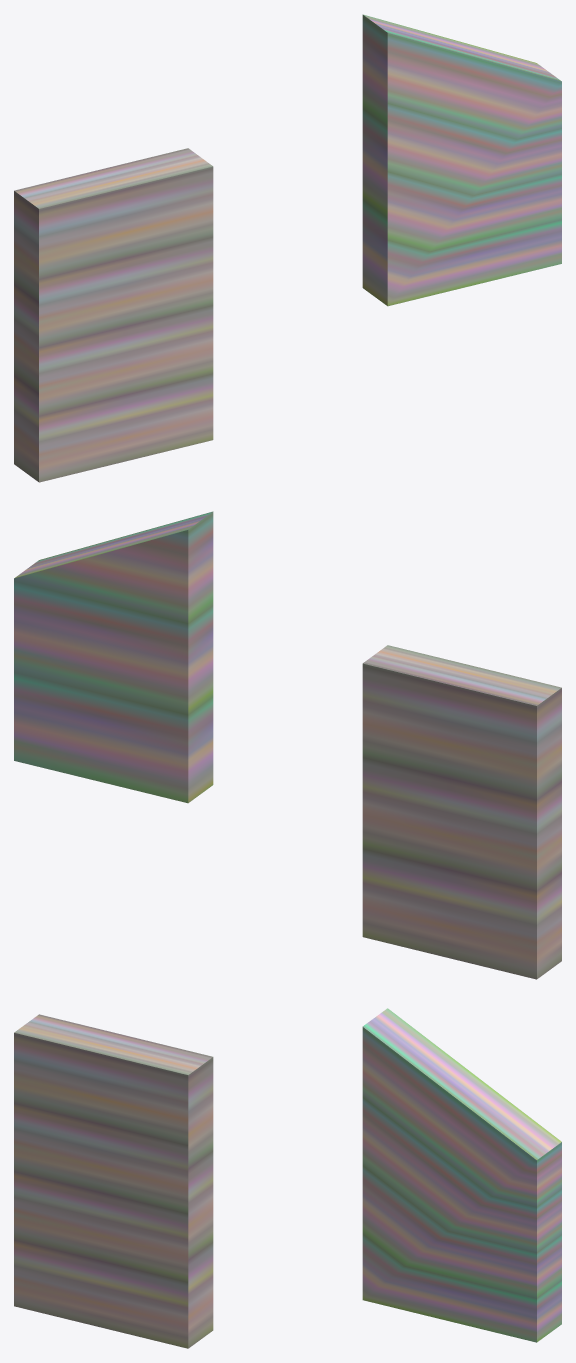
The model's file is construct_eyes_confused.obj.
3 views of the same model, one above another, from view 1: azimuth 30°, elevation 25°; view 2: azimuth 150°, elevation 25°; view 3: azimuth 330°, elevation 25° (orthographic).
Visible parts, largest first — view 1: EYES_CONFUSED_Cube.034; view 2: EYES_CONFUSED_Cube.034; view 3: EYES_CONFUSED_Cube.034.
Part boxes in pixels (<box>): EYES_CONFUSED_Cube.034: <box>14,14,561,482</box>; EYES_CONFUSED_Cube.034: <box>14,511,561,979</box>; EYES_CONFUSED_Cube.034: <box>14,1008,561,1348</box>.
Size of the model in its own units: 0.1875 by 0.125 by 0.0156.
